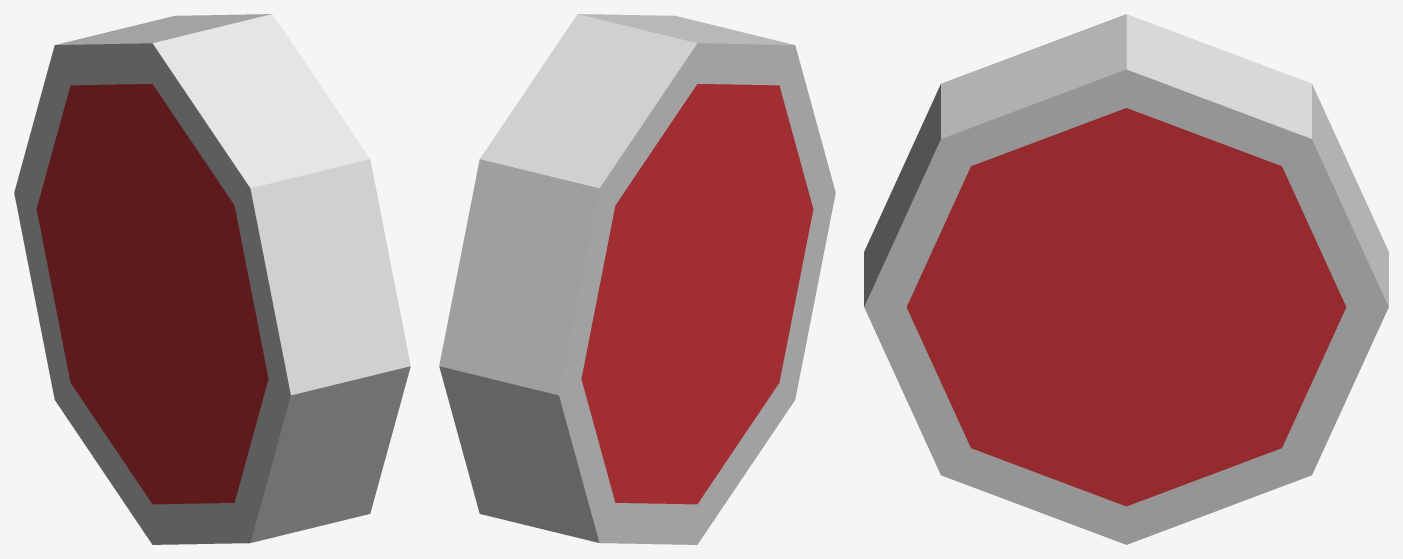
File: StopGo.fbx
The picture shows the model from 3 angles, left to right: view 1: azimuth 30°, elevation 25°; view 2: azimuth 150°, elevation 25°; view 3: azimuth 270°, elevation 25°; orthographic projection. The views are drawn at different scales.
Parts seen in each view (by area): view 1: Stop Sign; view 2: Stop Sign; view 3: Stop Sign.
Part boxes in pixels (x1,y1,x2,y2): Stop Sign: (14,14,410,544); Stop Sign: (439,14,835,544); Stop Sign: (864,14,1388,544).
Size of the model in its own units: 50 by 200 by 200.
